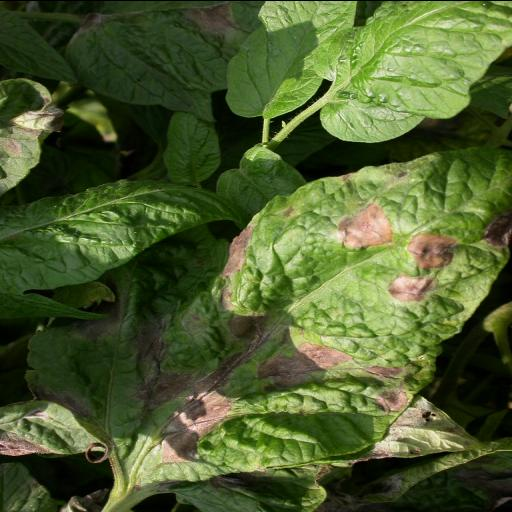disease_tomato: (100, 149, 502, 502), (54, 0, 266, 112)
